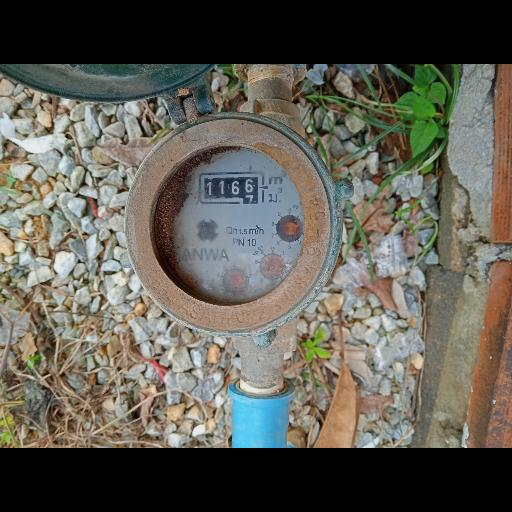1: (205, 178, 216, 199), (218, 178, 229, 199)
6: (243, 177, 255, 204), (229, 177, 241, 198)
border_water_meter_number: (198, 170, 268, 204)
